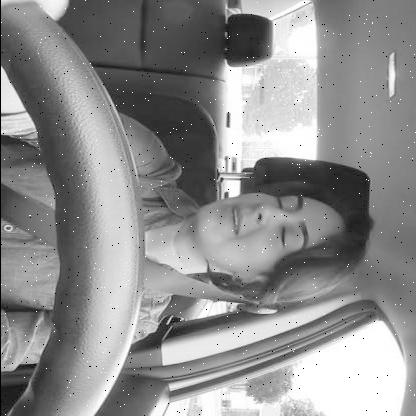seatbelt: (0, 138, 383, 325)
